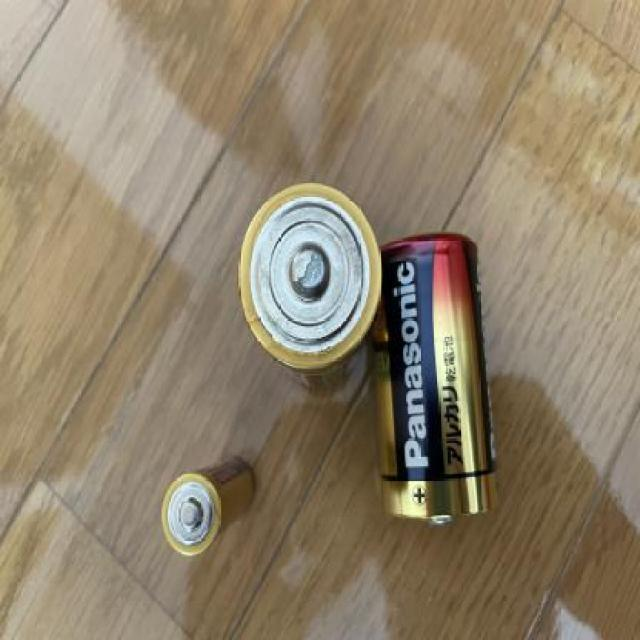hazardous waste: (374, 236, 508, 530), (234, 178, 383, 396), (160, 449, 260, 560)
